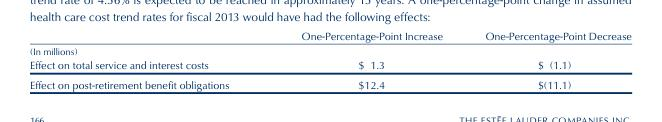table: (29, 29, 630, 90)
table column: (29, 29, 264, 90), (264, 29, 463, 90), (463, 29, 630, 90)
table column header: (29, 29, 630, 57)
table row: (29, 29, 630, 57), (29, 57, 630, 74), (29, 74, 630, 90)
